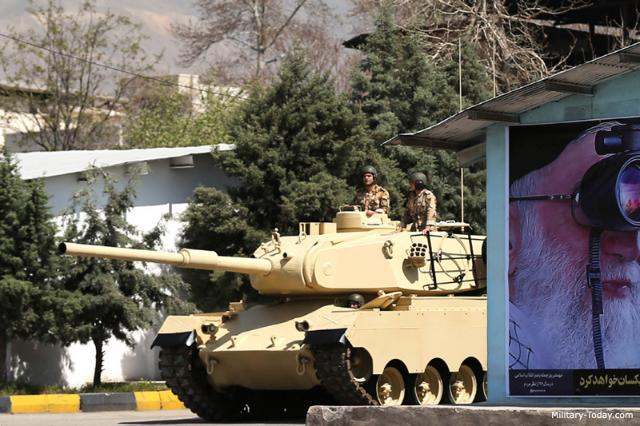other: (400, 167, 436, 225), (353, 165, 389, 213)
tank: (164, 205, 486, 402)
